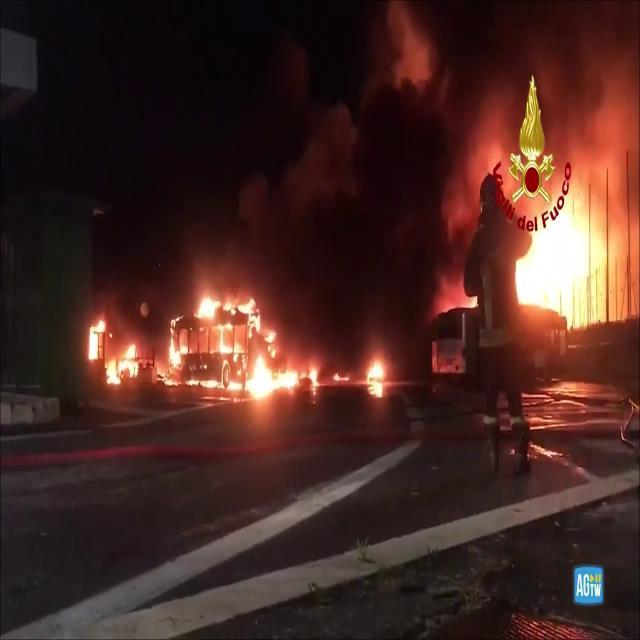Fire: (498, 115, 614, 328), (156, 276, 306, 397), (83, 310, 143, 387), (361, 348, 392, 400)
Smoke: (159, 0, 524, 301), (551, 0, 640, 243)
